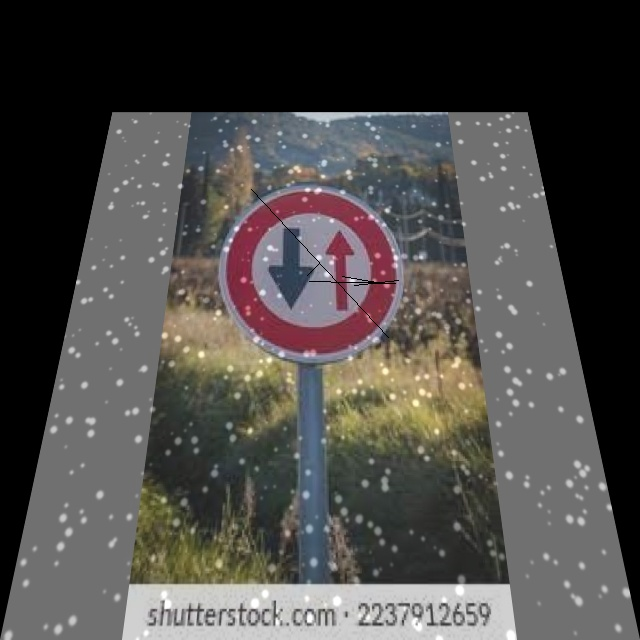Mandatory_Two_Way_Traffic: (212, 180, 423, 363)
